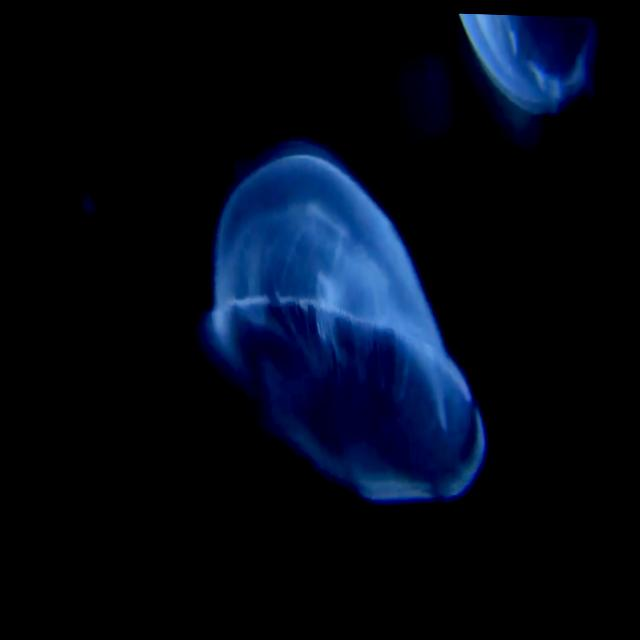Moon-jellyfish: (198, 149, 481, 496), (458, 11, 593, 109)
